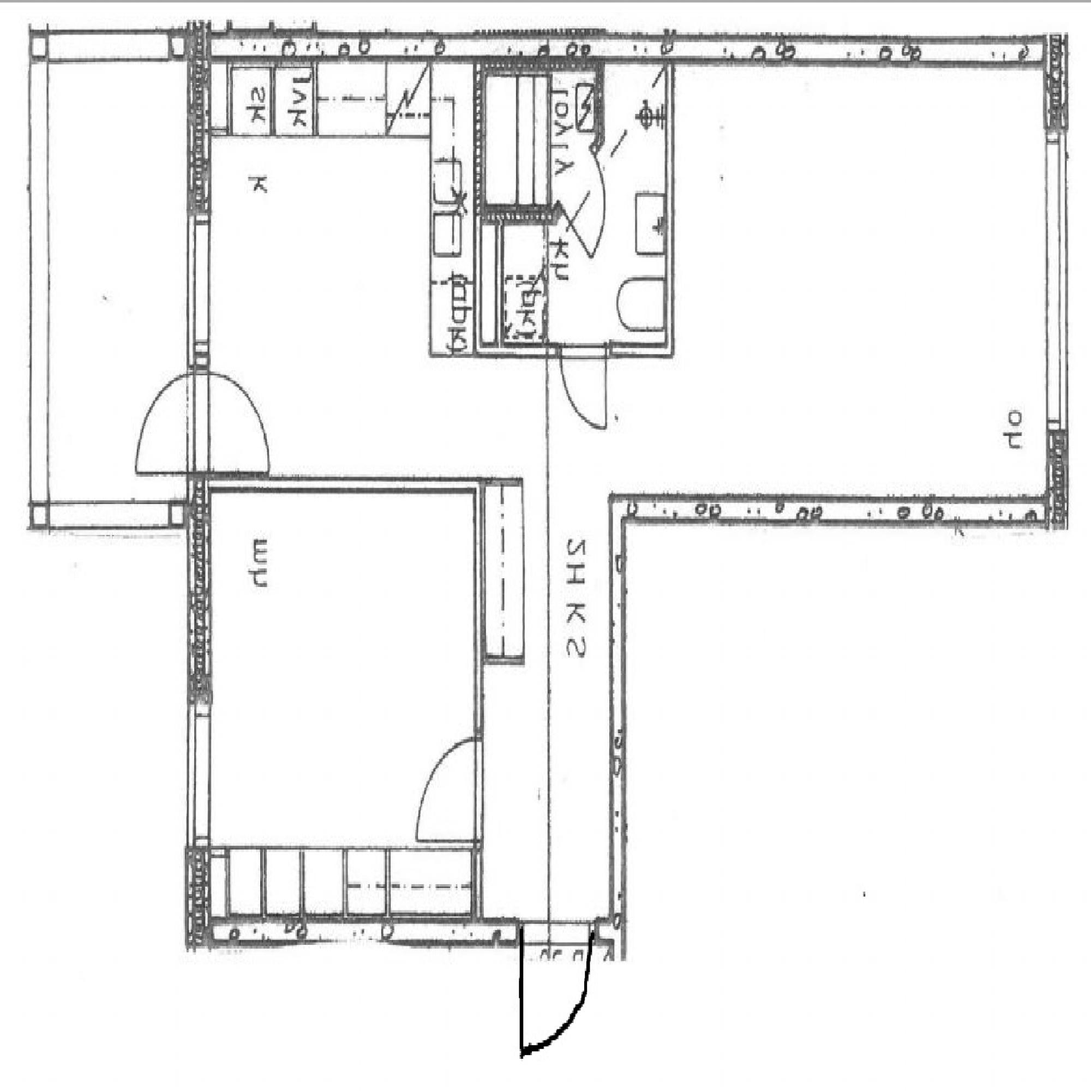wall: (188, 37, 209, 945), (605, 37, 1068, 61), (612, 497, 1068, 521), (188, 920, 627, 944), (1047, 37, 1068, 521), (188, 37, 487, 61), (612, 496, 627, 945), (188, 478, 484, 494), (475, 478, 484, 945), (553, 149, 601, 223), (666, 37, 676, 358), (475, 342, 675, 358), (475, 37, 605, 61), (474, 37, 487, 207), (474, 207, 487, 358), (598, 207, 676, 223), (553, 37, 562, 156)
